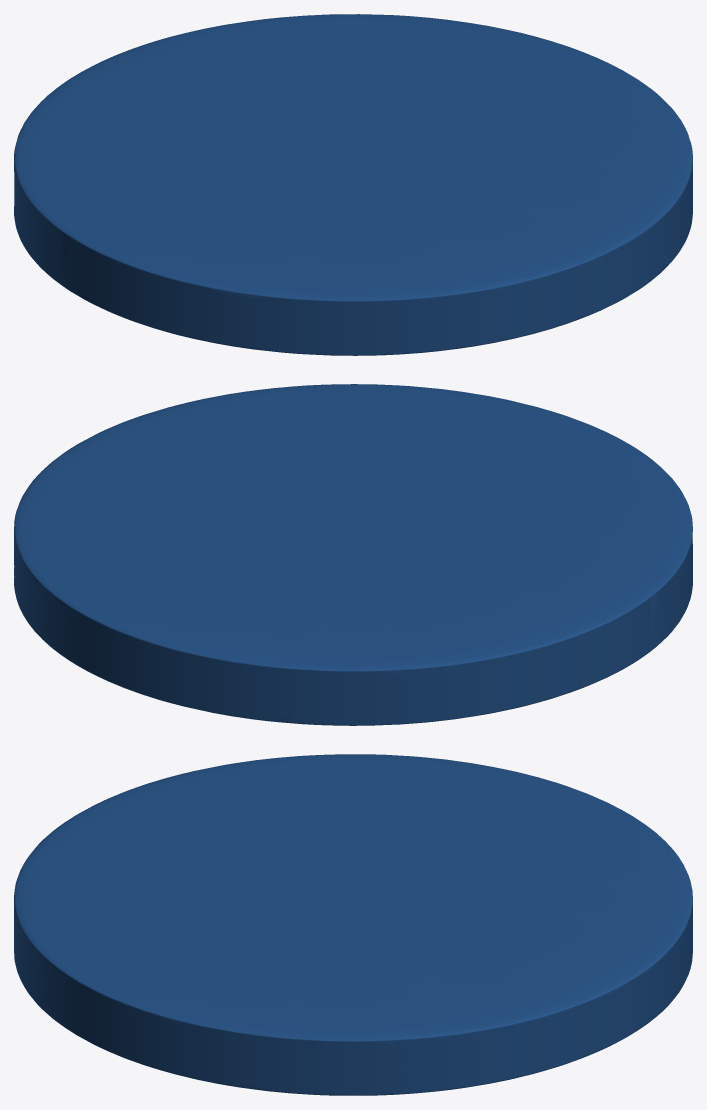
3 views of the same model, one above another, from view 1: azimuth 30°, elevation 25°; view 2: azimuth 150°, elevation 25°; view 3: azimuth 270°, elevation 25° (orthographic).
Visible parts, largest first — view 1: PM3D_Cylinder3D1; view 2: PM3D_Cylinder3D1; view 3: PM3D_Cylinder3D1.
Boxes of the visible parts, left/top/right/bottom form: PM3D_Cylinder3D1: left=14, top=14, right=692, bottom=355; PM3D_Cylinder3D1: left=14, top=384, right=692, bottom=725; PM3D_Cylinder3D1: left=14, top=754, right=692, bottom=1095.
Bounding box in the file's own units: 1.99 × 0.2 × 1.99.
